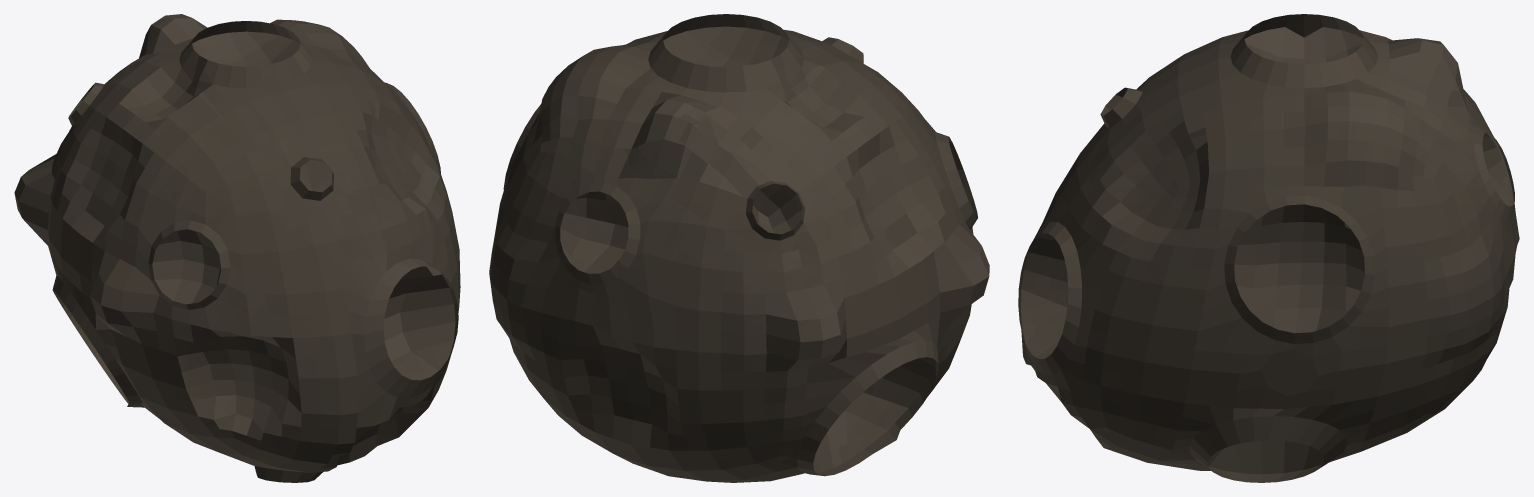
File: asteroid.glb
3 renders of one model, left to right at view 1: azimuth 30°, elevation 25°; view 2: azimuth 150°, elevation 25°; view 3: azimuth 270°, elevation 25°, orthographic. The views are drawn at different scales.
Parts seen in each view (by area): view 1: Cube; view 2: Cube; view 3: Cube.
Boxes of the visible parts, x1,y1,x2,y2 form: Cube: (14, 14, 460, 482); Cube: (489, 14, 989, 482); Cube: (1018, 14, 1519, 482).
Size of the model in its own units: 1.77 by 1.8 by 1.95.
Materials: 1 (1 with a texture image).
